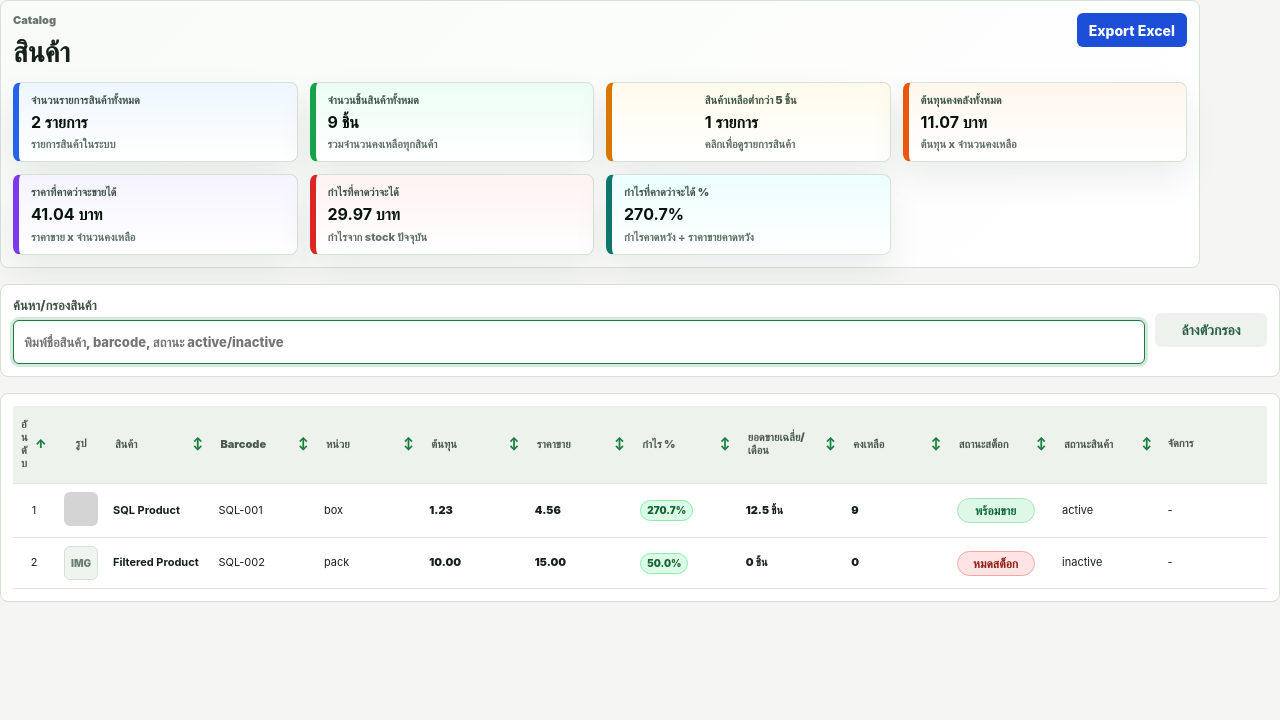
it: ProductListPage › opens a modal listing products with stock lower than 5 items
The image size is (1280, 720).
expect the text "SQL Product" is shown: met, box [113,502,180,516]
Click the button "สินค้าเหลือต่ำกว่า 5 ชิ้น 1 รายการ คลิกเพื่อดูรายการสินค้า" at (748, 122), box [606,82,890,162]
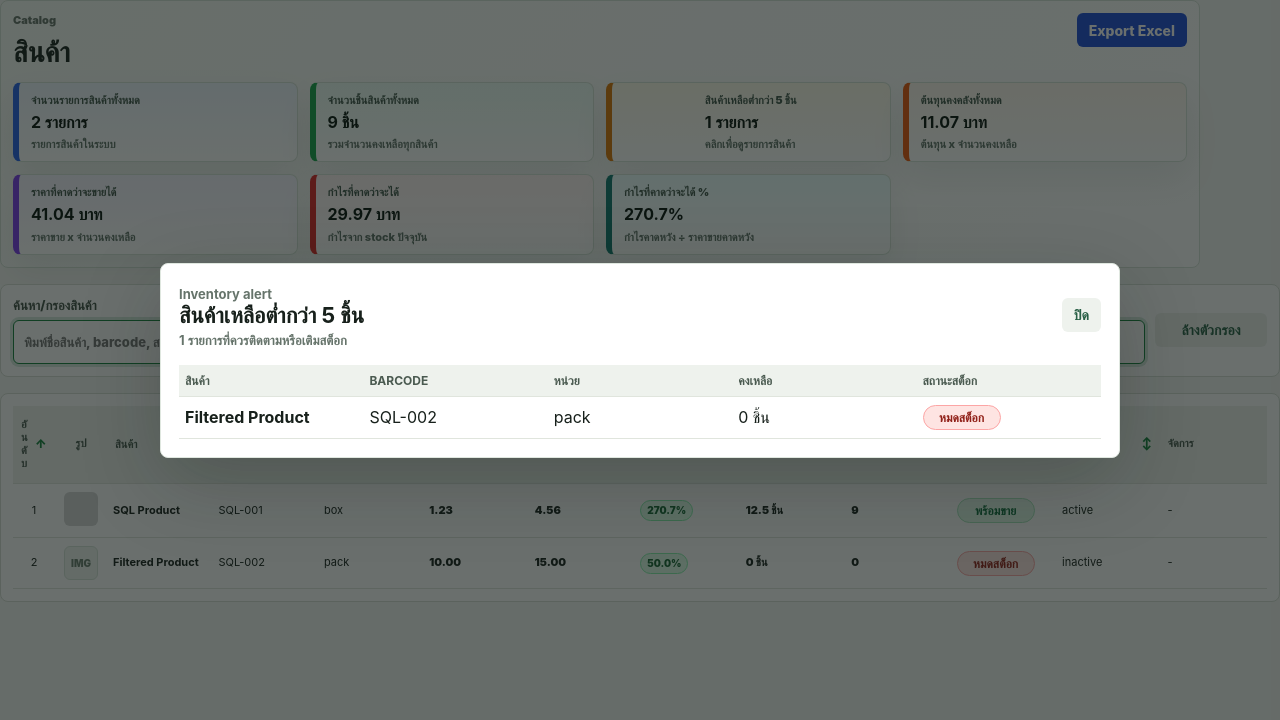
expect the column heading "สินค้า" is shown: met, box [179,364,363,396]
expect the column heading "Barcode" is shown: met, box [363,364,548,396]
expect the column heading "หน่วย" is shown: met, box [548,364,732,396]
